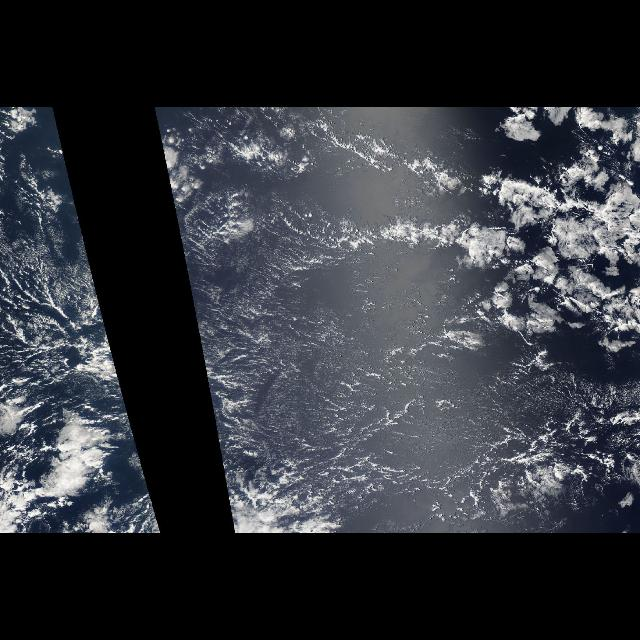Flower: (438, 110, 640, 366)
Sugar: (154, 110, 638, 532), (3, 112, 160, 530)
